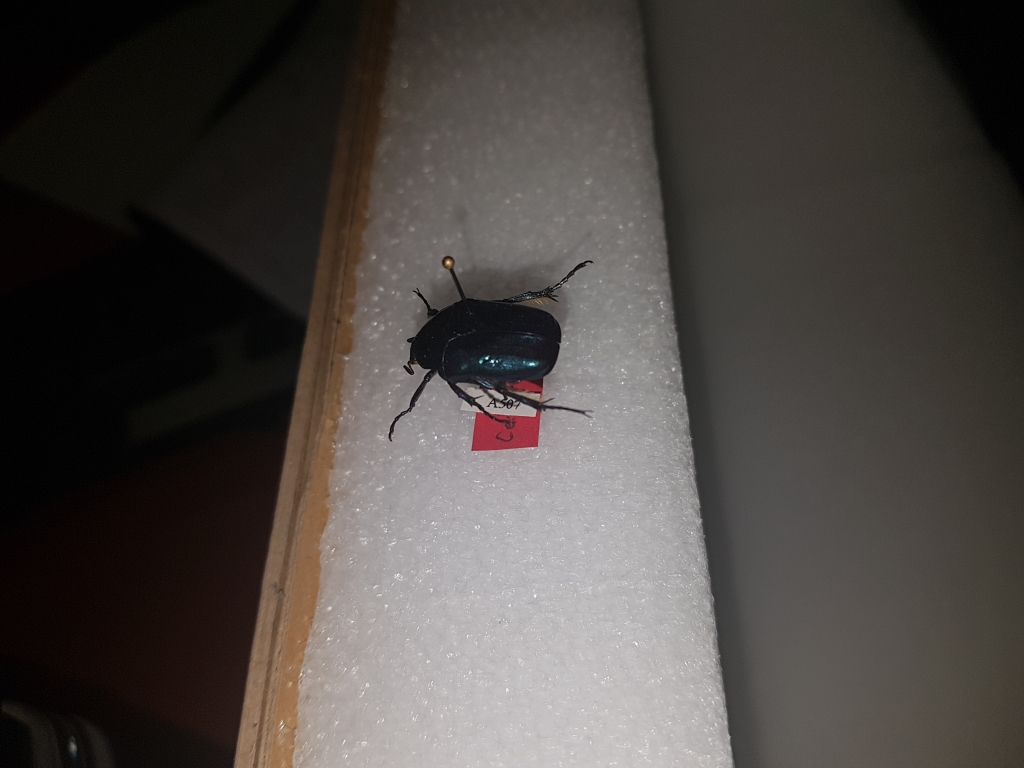Protaetia_besucheti: (387, 254, 611, 446)
